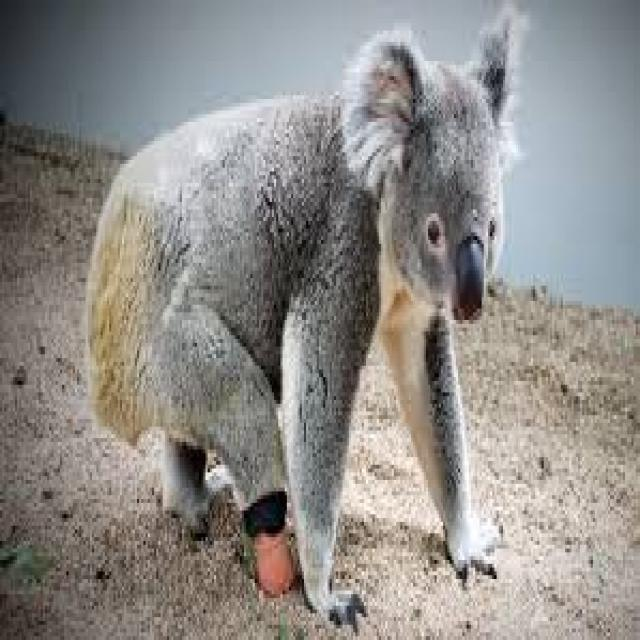Koala: (88, 0, 541, 632)
